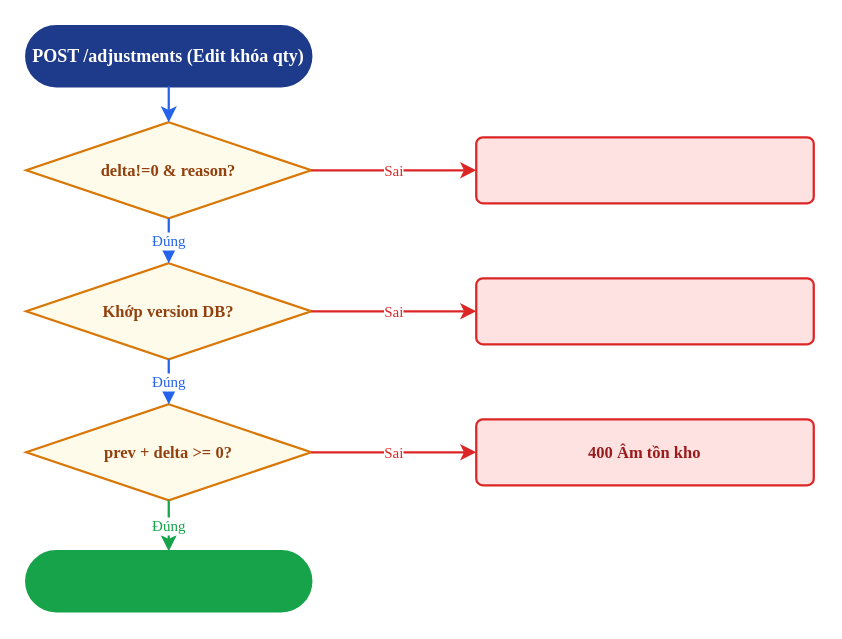
Image size: 842x639. Some labels were removed from this diagram. Here are the shapes that lost their labels. From the top down, the box of each, then its label:
(474, 135, 814, 204): 400 InvalidRequestException
(474, 276, 814, 345): 409 OptimisticConflict
(24, 549, 312, 612): Lưu Product, Adjust & AuditLog
